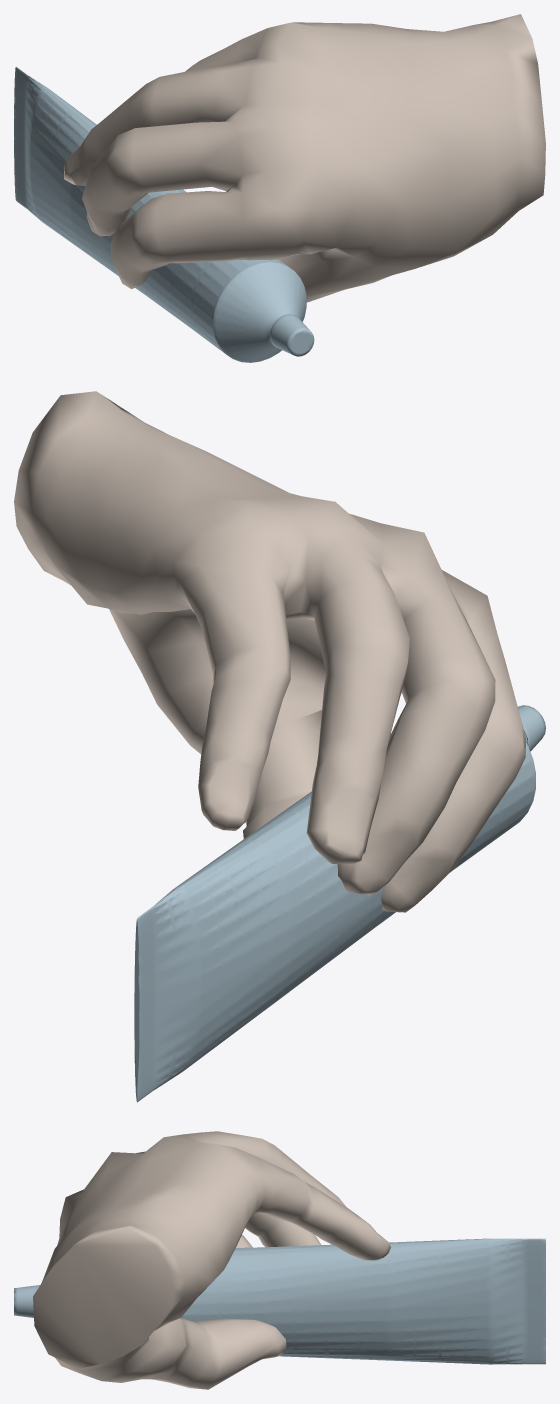
The model's file is grasp_1.glb.
3 renders of one model, top to bottom at view 1: azimuth 30°, elevation 25°; view 2: azimuth 150°, elevation 25°; view 3: azimuth 270°, elevation 25°, orthographic. The views are drawn at different scales.
Size of the model in its own units: 0.151 by 0.1109 by 0.202.
